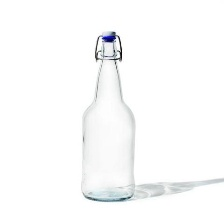bottle: (76, 29, 141, 204)
